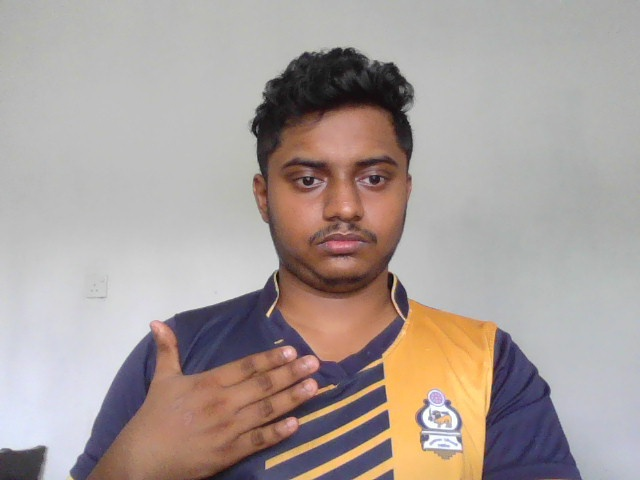Please: (151, 320, 321, 480)
